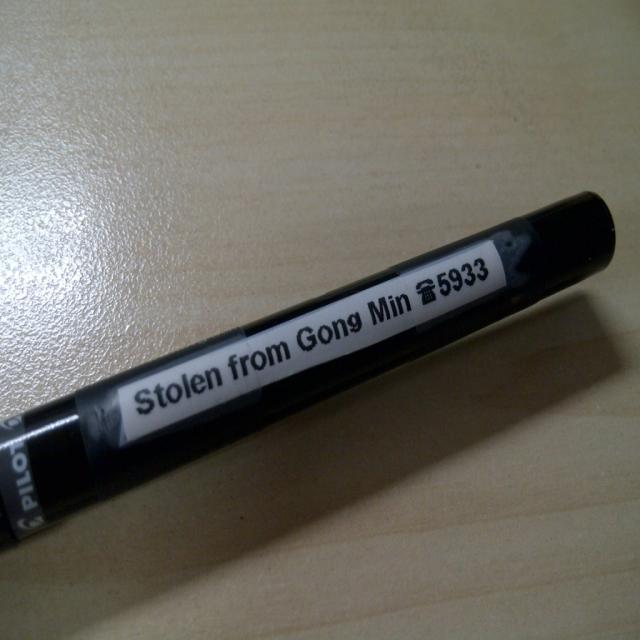pen: (1, 188, 618, 558)
